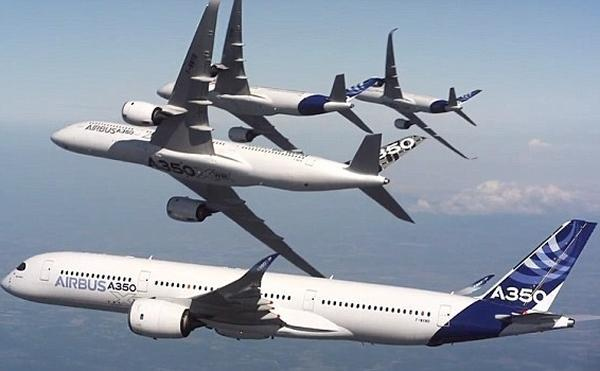airplane: (3, 219, 600, 348), (39, 1, 405, 192), (157, 2, 362, 116), (363, 35, 487, 118)
